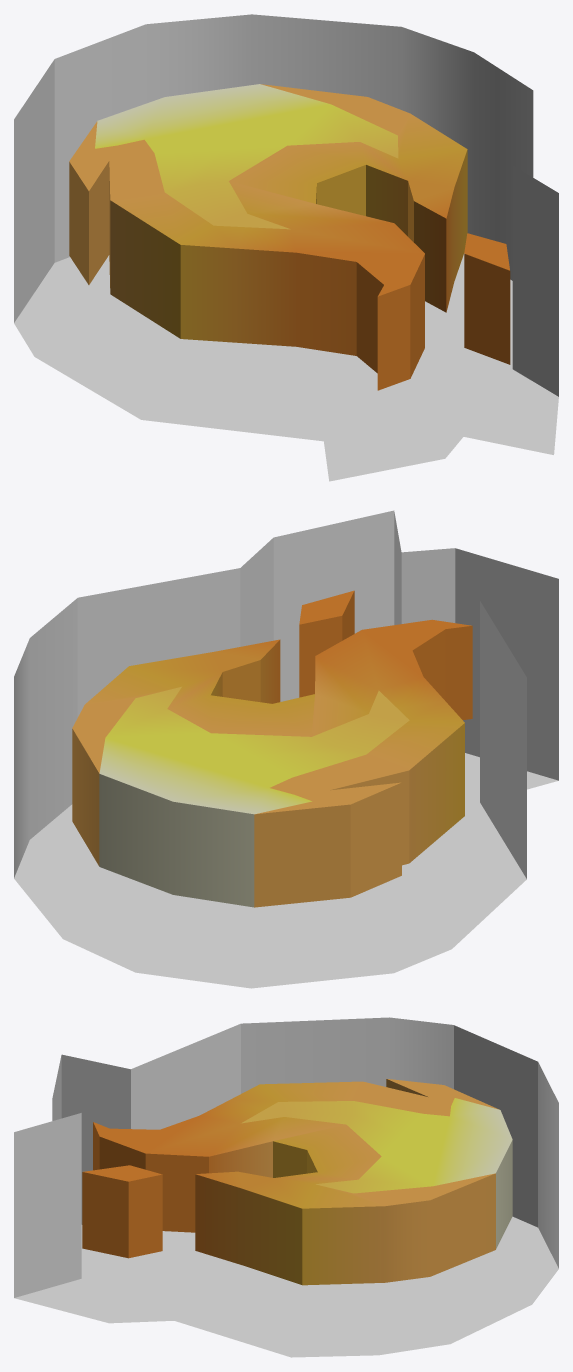
File: FrankysPizzaFlame.glb
3 renders of one model, top to bottom at view 1: azimuth 30°, elevation 25°; view 2: azimuth 150°, elevation 25°; view 3: azimuth 270°, elevation 25°, orthographic. The views are drawn at different scales.
Visible parts, largest first — view 1: FrankysPizzaFlame; view 2: FrankysPizzaFlame; view 3: FrankysPizzaFlame.
Boxes of the visible parts, x1=… form: FrankysPizzaFlame: x1=14, y1=14, x2=558, y2=481; FrankysPizzaFlame: x1=14, y1=510, x2=558, y2=988; FrankysPizzaFlame: x1=14, y1=1017, x2=558, y2=1357.
Size of the model in its own units: 0.1705 by 0.0758 by 0.2256.
